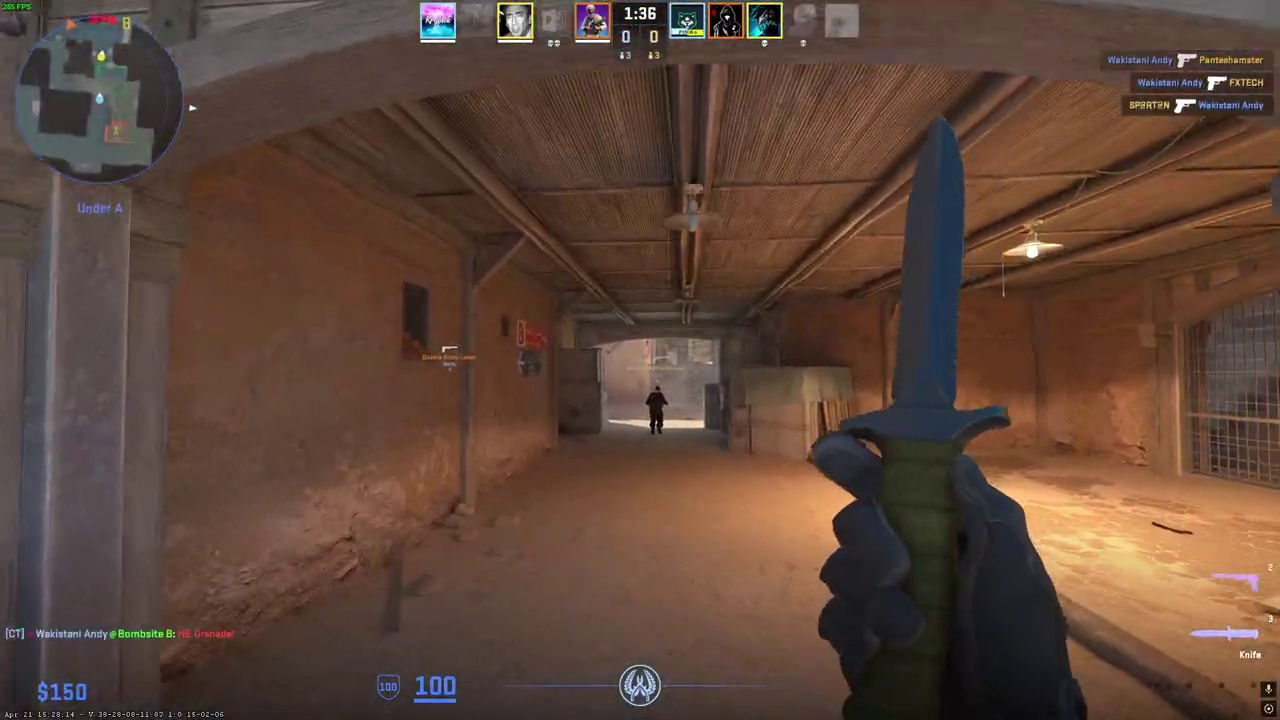CT: (647, 386, 666, 435)
